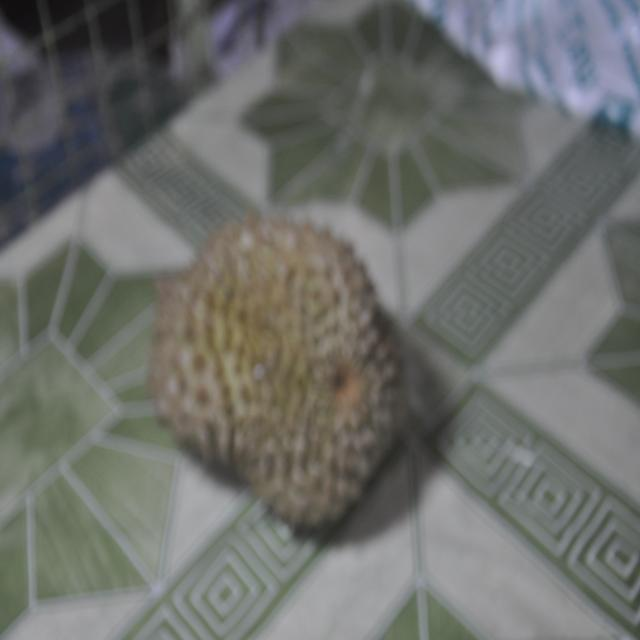mature: (125, 158, 447, 568)
